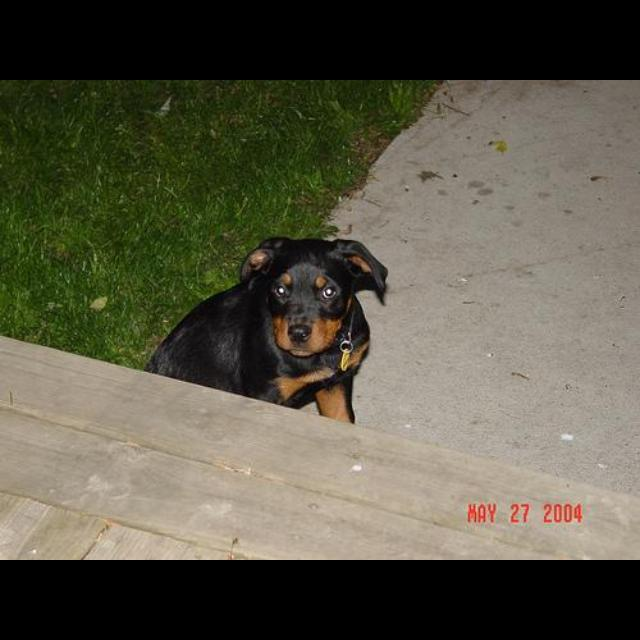rottweiler: (144, 237, 389, 426)
